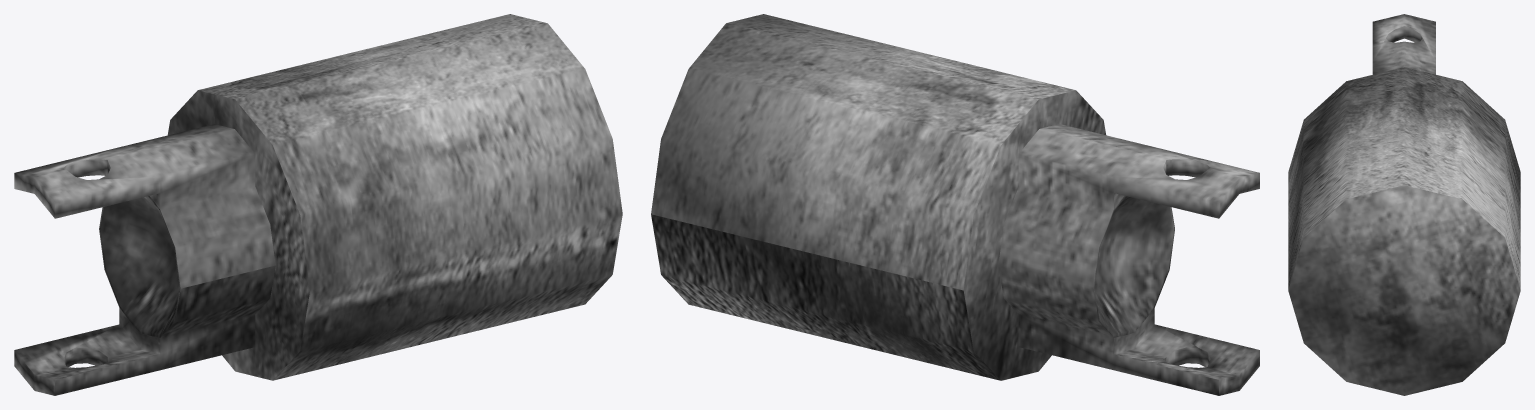
Rendered from WallGunBase.obj.
The picture shows the model from 3 angles, left to right: view 1: azimuth 30°, elevation 25°; view 2: azimuth 150°, elevation 25°; view 3: azimuth 270°, elevation 25°; orthographic projection. The views are drawn at different scales.
Parts seen in each view (by area): view 1: Cube.001; view 2: Cube.001; view 3: Cube.001.
Part boxes in pixels (x1,y1,x2,y2): Cube.001: (14,14,622,395); Cube.001: (651,14,1259,395); Cube.001: (1288,14,1520,395).
Size of the model in its own units: 7.98 by 4.04 by 4.04.
Materials: 1 (1 with a texture image).
